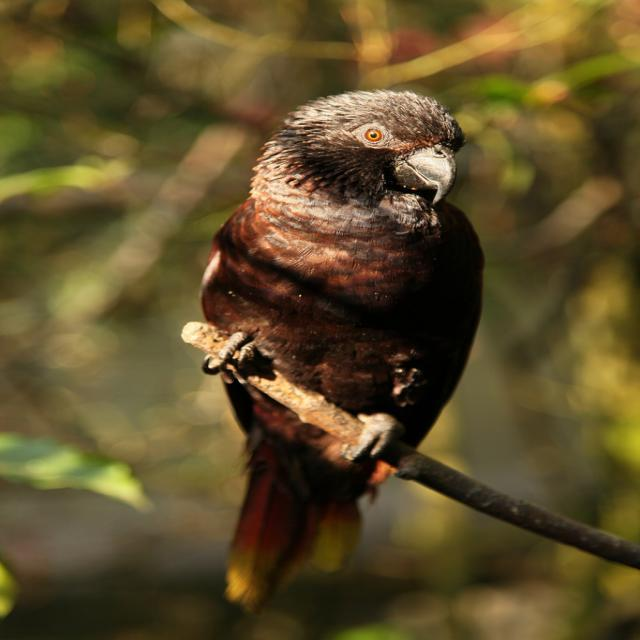Nuri Hitam: (177, 68, 507, 614)
